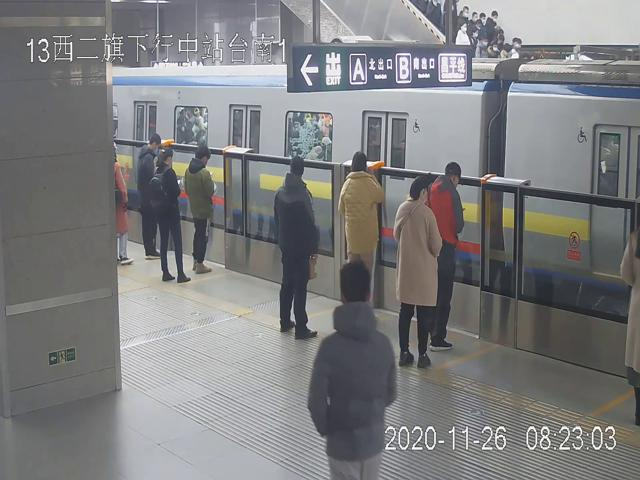person: (307, 262, 398, 480), (393, 176, 442, 369), (272, 156, 321, 338), (426, 162, 465, 351), (338, 152, 384, 288), (156, 145, 190, 282), (185, 143, 214, 274), (136, 133, 163, 261)
